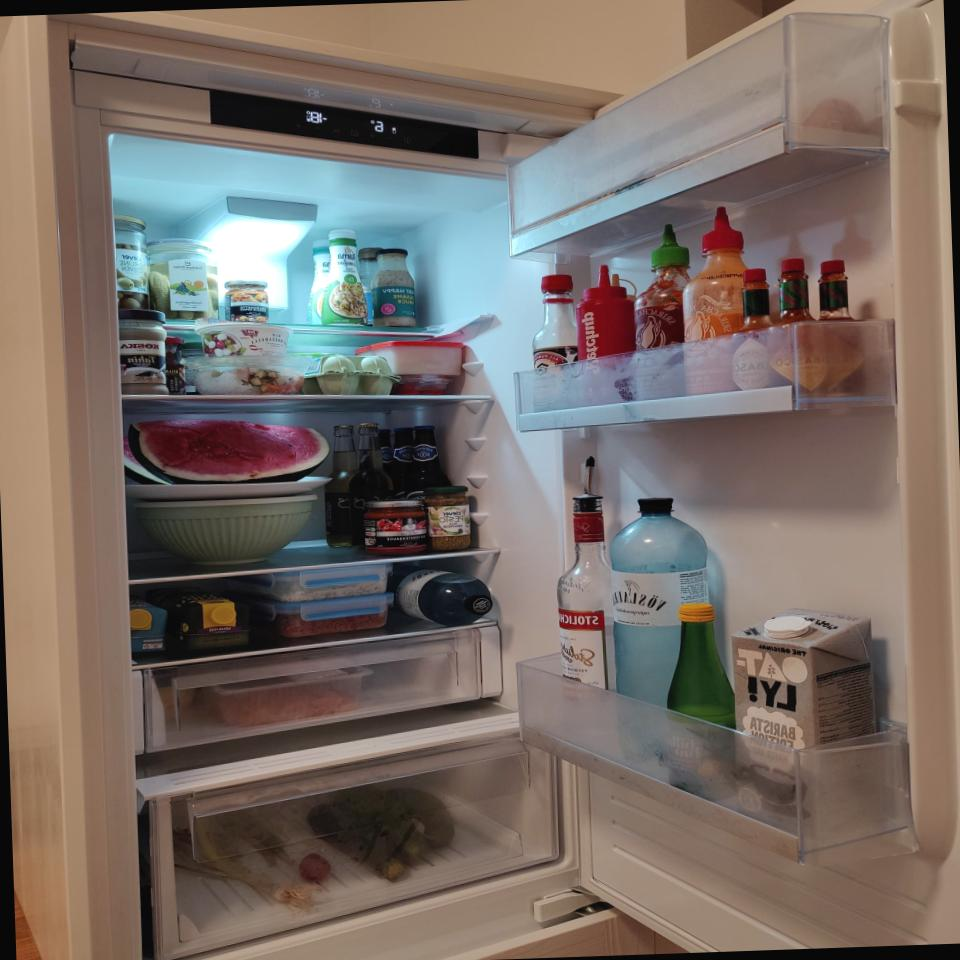Huevos: (291, 351, 396, 397)
Leche: (729, 604, 880, 839)
